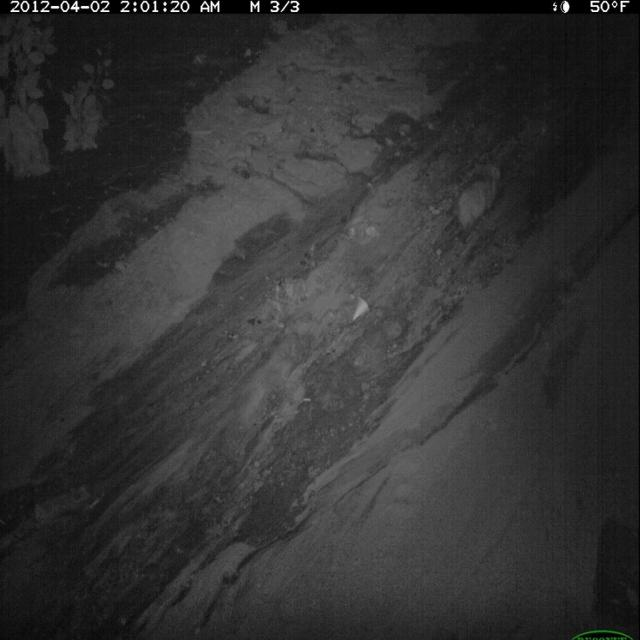opossum: (430, 157, 510, 254)
